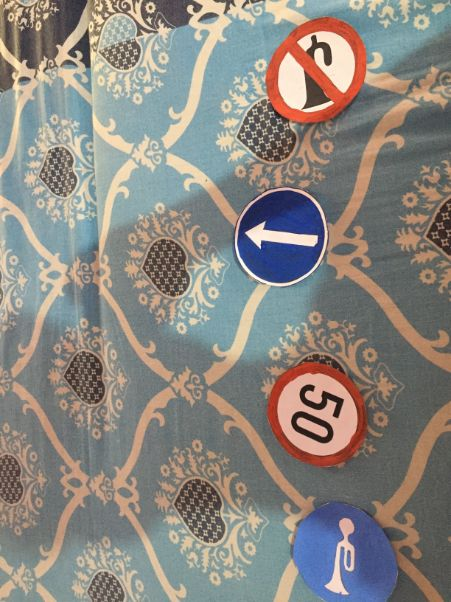blow-horn: (292, 497, 396, 601)
go-stright: (232, 188, 331, 287)
no-horn: (267, 19, 366, 118)
speed-50: (267, 367, 368, 468)
